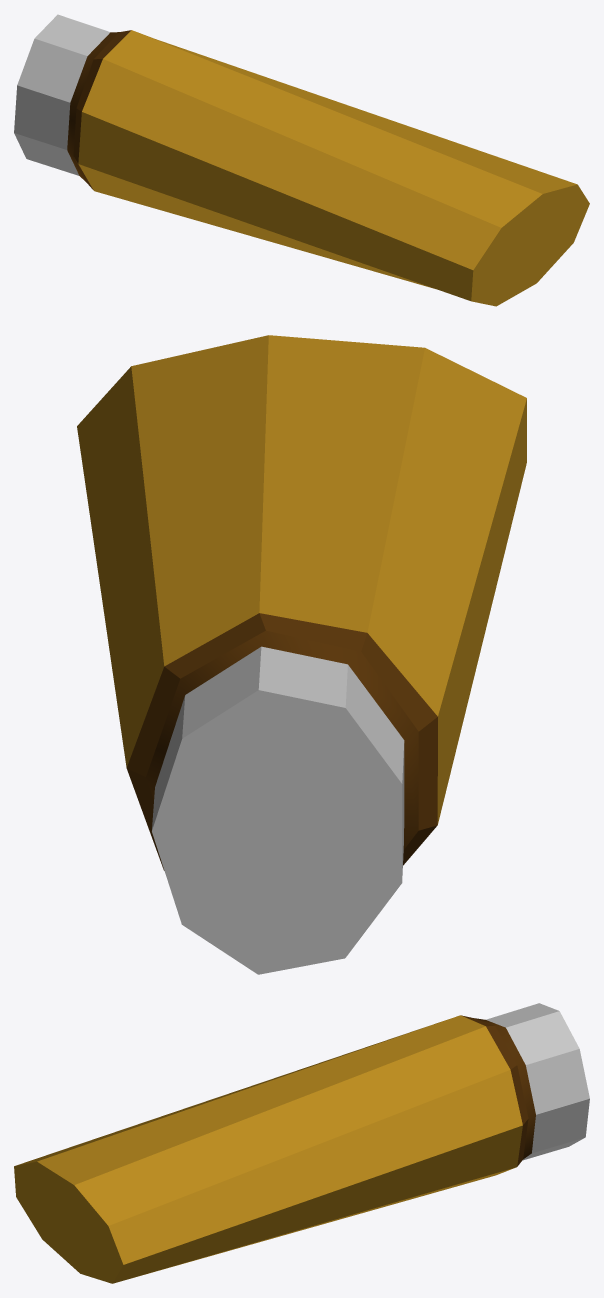
File: bathroom_toothpaste.fbx
3 renders of one model, top to bottom at view 1: azimuth 30°, elevation 25°; view 2: azimuth 150°, elevation 25°; view 3: azimuth 270°, elevation 25°, orthographic. The views are drawn at different scales.
Visible parts, largest first — view 1: interactible_toothpaste_unused; view 2: interactible_toothpaste_unused; view 3: interactible_toothpaste_unused.
Boxes of the visible parts, box(x1,y1,x2,y2) form: interactible_toothpaste_unused: box(14, 14, 589, 306); interactible_toothpaste_unused: box(77, 335, 526, 974); interactible_toothpaste_unused: box(14, 1003, 589, 1283).
Size of the model in its own units: 0.1705 by 0.0673 by 0.232.
